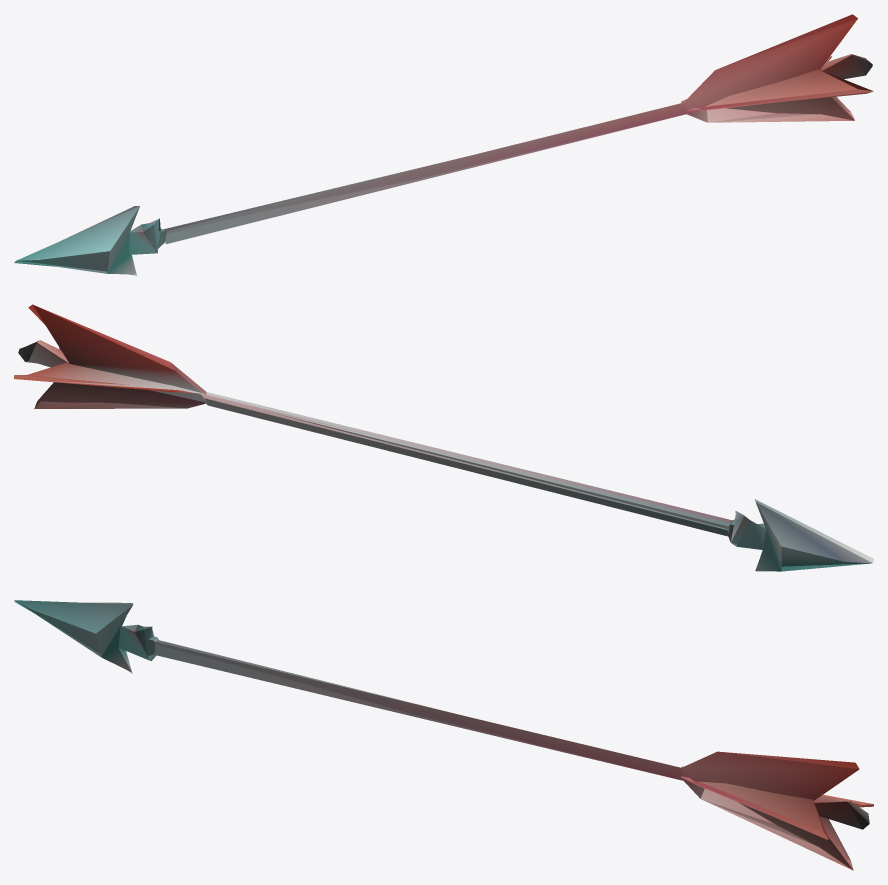
The model's file is Arrow_finished_color.fbx.
The picture shows the model from 3 angles, top to bottom: view 1: azimuth 30°, elevation 25°; view 2: azimuth 150°, elevation 25°; view 3: azimuth 330°, elevation 25°; orthographic projection.
Parts seen in each view (by area): view 1: Cube; view 2: Cube; view 3: Cube.
Part boxes in pixels (left/top/right/bottom): Cube: left=14, top=14, right=873, bottom=275; Cube: left=14, top=304, right=873, bottom=571; Cube: left=14, top=600, right=873, bottom=870.
Bounding box in the file's own units: 1048 × 124 × 93.05.
